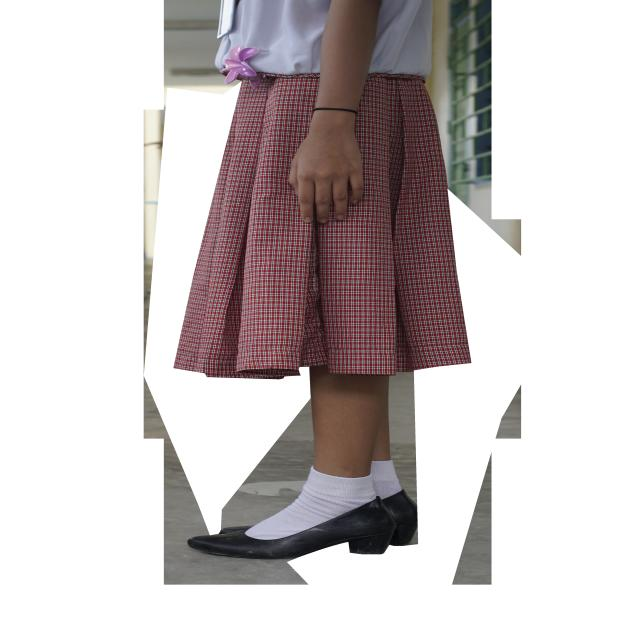shoes: (196, 490, 418, 559)
skirt: (175, 74, 471, 379)
